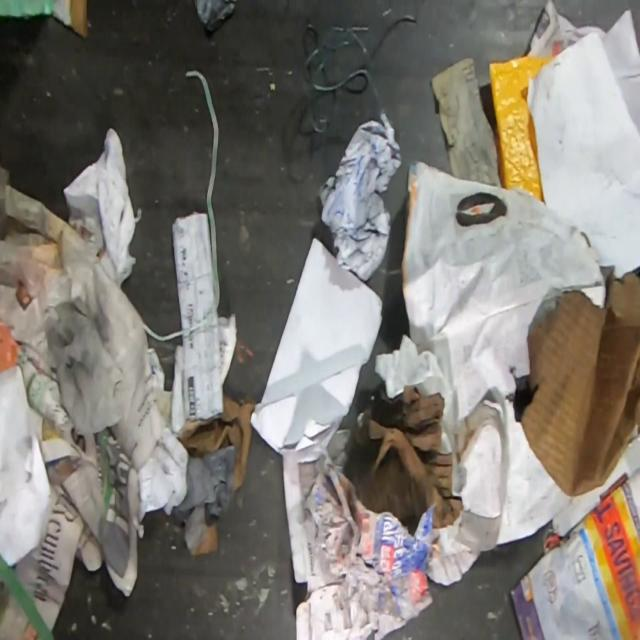cardboard: (519, 268, 640, 496), (344, 381, 463, 540), (0, 0, 86, 38)
